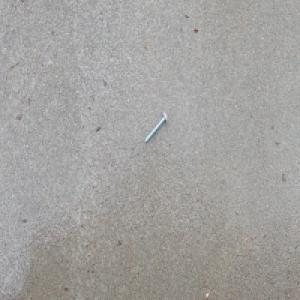Nail: (143, 111, 167, 143)
